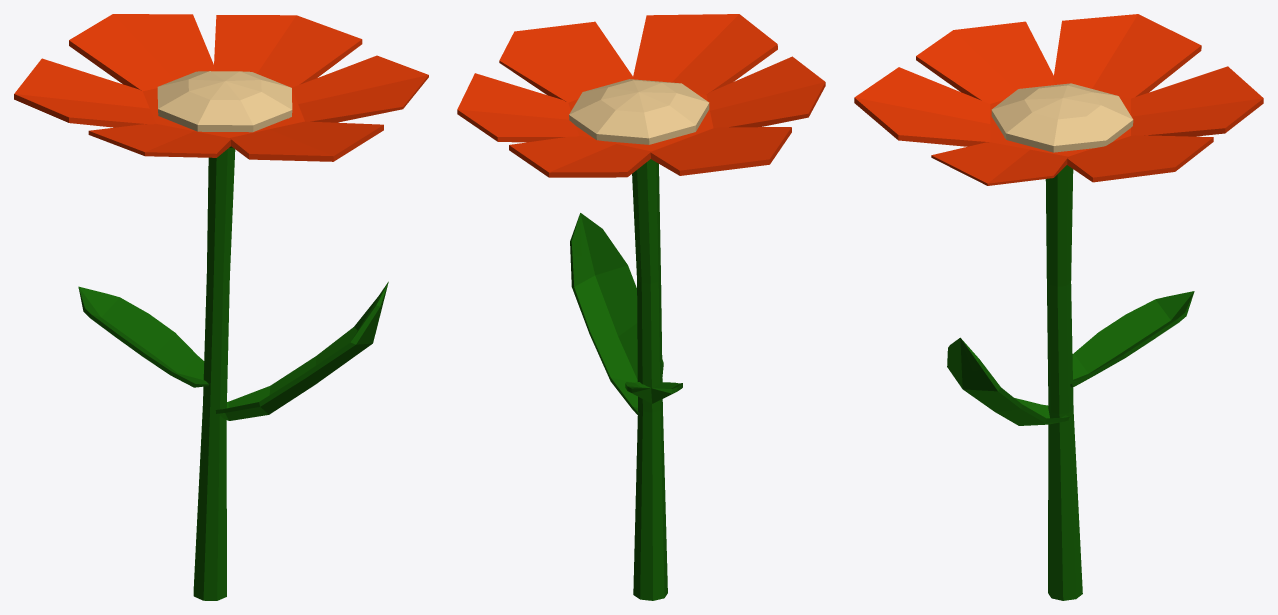
File: flower-3.fbx
3 views of the same model, side by side, from view 1: azimuth 30°, elevation 25°; view 2: azimuth 150°, elevation 25°; view 3: azimuth 270°, elevation 25° (orthographic). The views are drawn at different scales.
Parts seen in each view (by area): view 1: Flower 3; view 2: Flower 3; view 3: Flower 3.
Boxes of the visible parts, x1,y1,x2,y2 form: Flower 3: (14,14,428,600); Flower 3: (457,14,825,600); Flower 3: (854,14,1263,600).
Size of the model in its own units: 117 by 169 by 124.
